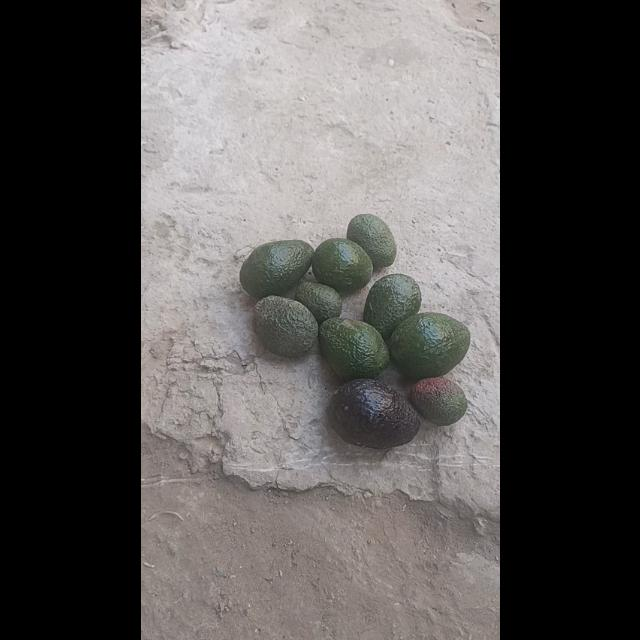Primera: (328, 378, 418, 447), (386, 312, 469, 380), (318, 316, 390, 379), (238, 240, 312, 298), (251, 294, 317, 356), (362, 274, 422, 340)
Segunda: (311, 236, 374, 294), (345, 212, 397, 270)
Tercera: (408, 374, 467, 426), (293, 279, 341, 327)
